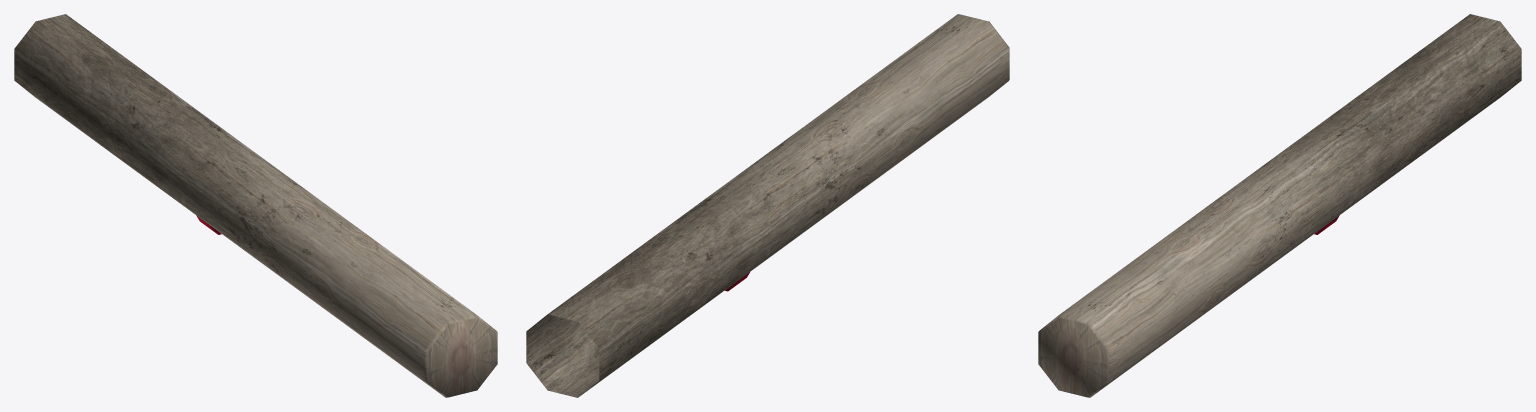
Rendered from WoodenPost.obj.
The picture shows the model from 3 angles, left to right: view 1: azimuth 30°, elevation 25°; view 2: azimuth 150°, elevation 25°; view 3: azimuth 330°, elevation 25°; orthographic projection.
Visible parts, largest first — view 1: Post; view 2: Post; view 3: Post.
Part boxes in pixels (left/top/right/bottom): Post: left=14, top=14, right=497, bottom=397; Post: left=526, top=14, right=1009, bottom=397; Post: left=1038, top=14, right=1521, bottom=397.
Size of the model in its own units: 0.1408 by 0.1599 by 1.38.
Materials: 1 (1 with a texture image).
